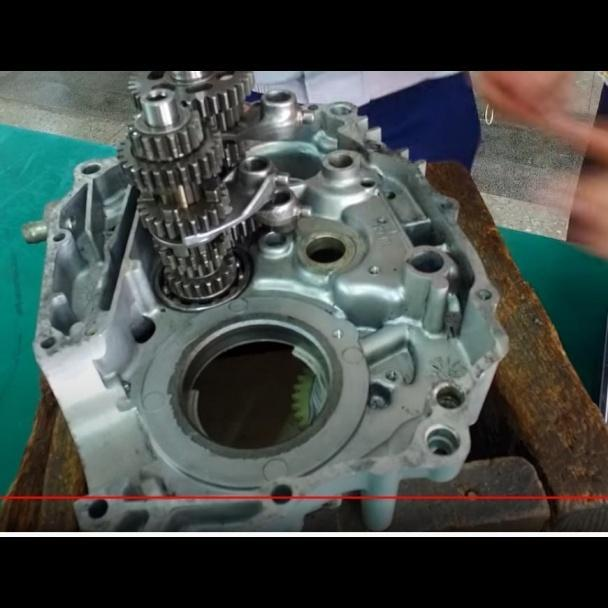hole: (475, 287, 492, 303), (367, 263, 381, 275), (385, 370, 396, 384)
